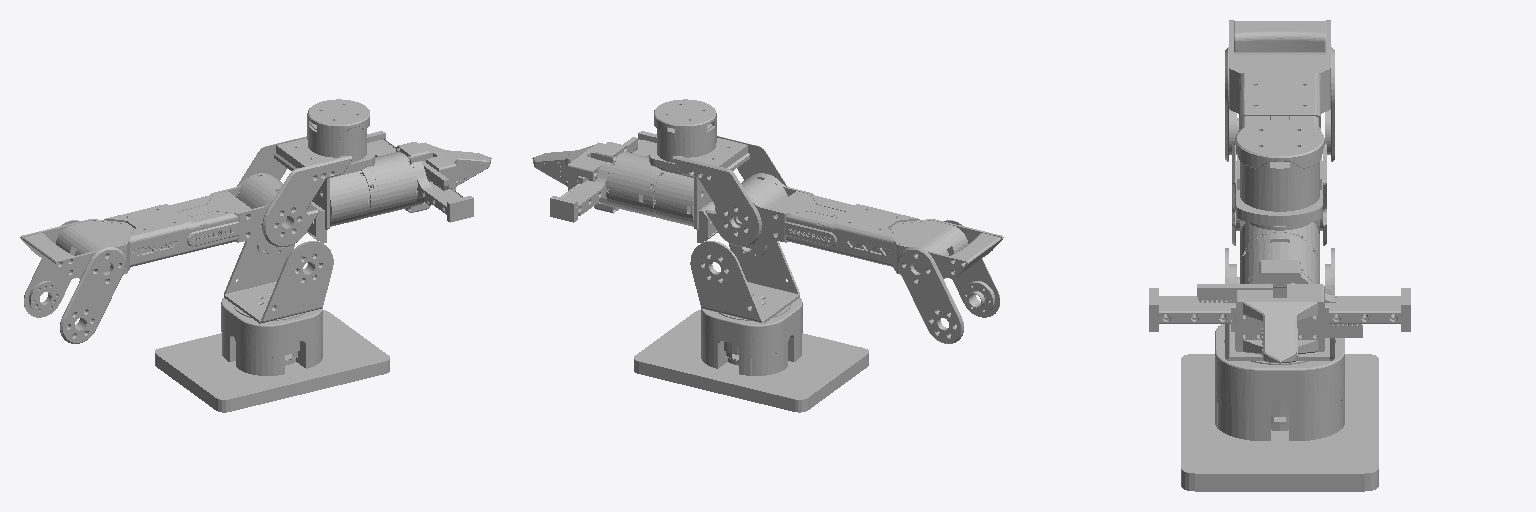
robot.urdf — reBot-DevArm_description_fixend:
<?xml version="1.0" encoding="utf-8"?>
<!-- This URDF was automatically created by SolidWorks to URDF Exporter! Originally created by Stephen Brawner (brawner@gmail.com) 
     Commit Version: 1.6.0-4-g7f85cfe  Build Version: 1.6.7995.38578
     For more information, please see http://wiki.ros.org/sw_urdf_exporter -->
<robot
  name="reBot-DevArm_description_fixend">
  <link
    name="base_link">
    <inertial>
      <origin
        xyz="-1.85734193190318E-05 -3.14893917816028E-08 0.0235694730998748"
        rpy="0 0 0" />
      <mass
        value="0.719994590495512" />
      <inertia
        ixx="0.000915098415293508"
        ixy="1.16624299234023E-08"
        ixz="-2.77627033649579E-07"
        iyy="0.00159394997606591"
        iyz="-3.83853691579024E-10"
        izz="0.00234792471513731" />
    </inertial>
    <visual>
      <origin
        xyz="0 0 0"
        rpy="0 0 0" />
      <geometry>
        <mesh
          filename="package://reBot-DevArm_description_fixend/meshes/base_link.STL" />
      </geometry>
      <material
        name="">
        <color
          rgba="0.752941176470588 0.752941176470588 0.752941176470588 1" />
      </material>
    </visual>
    <collision>
      <origin
        xyz="0 0 0"
        rpy="0 0 0" />
      <geometry>
        <mesh
          filename="package://reBot-DevArm_description_fixend/meshes/base_link.STL" />
      </geometry>
    </collision>
  </link>
  <link
    name="link1">
    <inertial>
      <origin
        xyz="0.00946544445312927 -0.000916580237430832 0.0265782762061412"
        rpy="0 0 0" />
      <mass
        value="0.0474137994557966" />
      <inertia
        ixx="6.36839627695188E-05"
        ixy="-1.55440663246564E-11"
        ixz="-7.08508824336641E-06"
        iyy="3.98844280553226E-05"
        iyz="-4.4556429003454E-11"
        izz="5.92016142489911E-05" />
    </inertial>
    <visual>
      <origin
        xyz="0 0 0"
        rpy="0 0 0" />
      <geometry>
        <mesh
          filename="package://reBot-DevArm_description_fixend/meshes/link1.STL" />
      </geometry>
      <material
        name="">
        <color
          rgba="0.752941176470588 0.752941176470588 0.752941176470588 1" />
      </material>
    </visual>
    <collision>
      <origin
        xyz="0 0 0"
        rpy="0 0 0" />
      <geometry>
        <mesh
          filename="package://reBot-DevArm_description_fixend/meshes/link1.STL" />
      </geometry>
    </collision>
  </link>
  <joint
    name="joint1"
    type="revolute">
    <origin
      xyz="0 0 0.0708"
      rpy="0 0 0" />
    <parent
      link="base_link" />
    <child
      link="link1" />
    <axis
      xyz="0 0 1" />
    <limit
      lower="-3.14"
      upper="3.14"
      effort="27"
      velocity="50" />
  </joint>
  <link
    name="link2">
    <inertial>
      <origin
        xyz="-0.132889542584872 -0.003258224978752 -0.0349384843366669"
        rpy="0 0 0" />
      <mass
        value="0.739226251844668" />
      <inertia
        ixx="0.000256114561344732"
        ixy="-6.74416097640004E-06"
        ixz="4.81792944649058E-10"
        iyy="0.00206193618710208"
        iyz="4.37044735910569E-07"
        izz="0.00205913873630619" />
    </inertial>
    <visual>
      <origin
        xyz="0 0 0"
        rpy="0 0 0" />
      <geometry>
        <mesh
          filename="package://reBot-DevArm_description_fixend/meshes/link2.STL" />
      </geometry>
      <material
        name="">
        <color
          rgba="0.752941176470588 0.752941176470588 0.752941176470588 1" />
      </material>
    </visual>
    <collision>
      <origin
        xyz="0 0 0"
        rpy="0 0 0" />
      <geometry>
        <mesh
          filename="package://reBot-DevArm_description_fixend/meshes/link2.STL" />
      </geometry>
    </collision>
  </link>
  <joint
    name="joint2"
    type="revolute">
    <origin
      xyz="0.02 0.035625 0.0497"
      rpy="-1.5708 0 0" />
    <parent
      link="link1" />
    <child
      link="link2" />
    <axis
      xyz="0 0 -1" />
    <limit
      lower="-3.14"
      upper="0"
      effort="27"
      velocity="50" />
  </joint>
  <link
    name="link3">
    <inertial>
      <origin
        xyz="0.123937952105152 -0.0545951132444595 -0.0352155733412803"
        rpy="0 0 0" />
      <mass
        value="0.517217816239094" />
      <inertia
        ixx="0.000154448088504725"
        ixy="1.31408569477724E-05"
        ixz="-1.08370172627092E-09"
        iyy="0.00131521837345199"
        iyz="2.77287281258215E-07"
        izz="0.00130884871979224" />
    </inertial>
    <visual>
      <origin
        xyz="0 0 0"
        rpy="0 0 0" />
      <geometry>
        <mesh
          filename="package://reBot-DevArm_description_fixend/meshes/link3.STL" />
      </geometry>
      <material
        name="">
        <color
          rgba="0.752941176470588 0.752941176470588 0.752941176470588 1" />
      </material>
    </visual>
    <collision>
      <origin
        xyz="0 0 0"
        rpy="0 0 0" />
      <geometry>
        <mesh
          filename="package://reBot-DevArm_description_fixend/meshes/link3.STL" />
      </geometry>
    </collision>
  </link>
  <joint
    name="joint3"
    type="revolute">
    <origin
      xyz="-0.264 0 0"
      rpy="0 0 0" />
    <parent
      link="link2" />
    <child
      link="link3" />
    <axis
      xyz="0 0 1" />
    <limit
      lower="-3.14"
      upper="0"
      effort="27"
      velocity="50" />
  </joint>
  <link
    name="link4">
    <inertial>
      <origin
        xyz="0.0605173509890757 -0.0515591812721402 -0.0304480106784497"
        rpy="0 0 0" />
      <mass
        value="0.192697131774934" />
      <inertia
        ixx="8.02180695386143E-05"
        ixy="1.80653906847015E-05"
        ixz="4.16372809232252E-08"
        iyy="0.00011283880277066"
        iyz="-1.27766109264829E-07"
        izz="0.000110011824792294" />
    </inertial>
    <visual>
      <origin
        xyz="0 0 0"
        rpy="0 0 0" />
      <geometry>
        <mesh
          filename="package://reBot-DevArm_description_fixend/meshes/link4.STL" />
      </geometry>
      <material
        name="">
        <color
          rgba="0.752941176470588 0.752941176470588 0.752941176470588 1" />
      </material>
    </visual>
    <collision>
      <origin
        xyz="0 0 0"
        rpy="0 0 0" />
      <geometry>
        <mesh
          filename="package://reBot-DevArm_description_fixend/meshes/link4.STL" />
      </geometry>
    </collision>
  </link>
  <joint
    name="joint4"
    type="revolute">
    <origin
      xyz="0.2426 -0.054 -0.005625"
      rpy="0 0 0" />
    <parent
      link="link3" />
    <child
      link="link4" />
    <axis
      xyz="0 0 1" />
    <limit
      lower="-1.87"
      upper="1.57"
      effort="7"
      velocity="200" />
  </joint>
  <link
    name="link5">
    <inertial>
      <origin
        xyz="-0.0050794127558127 0.00010101378072503 0.0368401332519827"
        rpy="0 0 0" />
      <mass
        value="0.132385396678886" />
      <inertia
        ixx="5.35384612243393E-05"
        ixy="2.77627187996669E-07"
        ixz="3.09969892642944E-06"
        iyy="4.65021943386178E-05"
        iyz="1.16620238873388E-08"
        izz="4.49715503183576E-05" />
    </inertial>
    <visual>
      <origin
        xyz="0 0 0"
        rpy="0 0 0" />
      <geometry>
        <mesh
          filename="package://reBot-DevArm_description_fixend/meshes/link5.STL" />
      </geometry>
      <material
        name="">
        <color
          rgba="0.752941176470588 0.752941176470588 0.752941176470588 1" />
      </material>
    </visual>
    <collision>
      <origin
        xyz="0 0 0"
        rpy="0 0 0" />
      <geometry>
        <mesh
          filename="package://reBot-DevArm_description_fixend/meshes/link5.STL" />
      </geometry>
    </collision>
  </link>
  <joint
    name="joint5"
    type="revolute">
    <origin
      xyz="0.078308 -0.0355 -0.03"
      rpy="-1.5708 0 0" />
    <parent
      link="link4" />
    <child
      link="link5" />
    <axis
      xyz="0 0 1" />
    <limit
      lower="-1.57"
      upper="1.57"
      effort="7"
      velocity="200" />
  </joint>
  <link
    name="link6">
    <inertial>
      <origin
        xyz="-3.8781691230616E-07 0.000113777214552087 0.0230647909060226"
        rpy="0 0 0" />
      <mass
        value="0.11789729559246" />
      <inertia
        ixx="3.88080010698203E-05"
        ixy="-1.17785351596058E-08"
        ixz="-3.87297996334965E-10"
        iyy="3.85559589025659E-05"
        iyz="2.77632235790657E-07"
        izz="4.97947305166078E-05" />
    </inertial>
    <visual>
      <origin
        xyz="0 0 0"
        rpy="0 0 0" />
      <geometry>
        <mesh
          filename="package://reBot-DevArm_description_fixend/meshes/link6.STL" />
      </geometry>
      <material
        name="">
        <color
          rgba="0.752941176470588 0.752941176470588 0.752941176470588 1" />
      </material>
    </visual>
    <collision>
      <origin
        xyz="0 0 0"
        rpy="0 0 0" />
      <geometry>
        <mesh
          filename="package://reBot-DevArm_description_fixend/meshes/link6.STL" />
      </geometry>
    </collision>
  </link>
  <joint
    name="joint6"
    type="revolute">
    <origin
      xyz="0.027192 0 0.038"
      rpy="0 1.5708 0" />
    <parent
      link="link5" />
    <child
      link="link6" />
    <axis
      xyz="0 0 1" />
    <limit
      lower="-6.28"
      upper="6.28"
      effort="7"
      velocity="200" />
  </joint>
  <link
    name="end_link">
    <inertial>
      <origin
        xyz="-0.0725515914083579 -2.48849641689627E-05 8.93997475285291E-05"
        rpy="0 0 0" />
      <mass
        value="0.144462872984956" />
      <inertia
        ixx="0.000184957886333639"
        ixy="2.96738638766954E-12"
        ixz="2.85406142523417E-09"
        iyy="3.17608917694512E-05"
        iyz="2.09841553499463E-08"
        izz="0.000178869005286531" />
    </inertial>
    <visual>
      <origin
        xyz="0 0 0"
        rpy="0 0 0" />
      <geometry>
        <mesh
          filename="package://reBot-DevArm_description_fixend/meshes/end_link.STL" />
      </geometry>
      <material
        name="">
        <color
          rgba="0.752941176470588 0.752941176470588 0.752941176470588 1" />
      </material>
    </visual>
    <collision>
      <origin
        xyz="0 0 0"
        rpy="0 0 0" />
      <geometry>
        <mesh
          filename="package://reBot-DevArm_description_fixend/meshes/end_link.STL" />
      </geometry>
    </collision>
  </link>
  <joint
    name="end_joint"
    type="fixed">
    <origin
      xyz="-0.00018697 -5.9452E-05 0.14921"
      rpy="0 -1.5708 3.1415" />
    <parent
      link="link6" />
    <child
      link="end_link" />
    <axis
      xyz="0 0 0" />
  </joint>
</robot>

--- Render facts (derived) ---
3 views of the same robot in one strip: view 1: azimuth 30°, elevation 25°; view 2: azimuth 150°, elevation 25°; view 3: azimuth 270°, elevation 25° (orthographic).
Robot: reBot-DevArm_description_fixend — 8 links, 7 joints (6 revolute, 1 fixed); root link base_link; default pose: all joints at 0.
Links seen in each view (by area): view 1: link3, base_link, link4, link1, end_link, link5, link6; view 2: link3, base_link, link4, link1, end_link, link5, link6; view 3: base_link, end_link, link3, link4, link6, link1, link5.
Link boxes in pixels (x1,y1,x2,y2): link3: [20, 173, 309, 343]; base_link: [155, 298, 389, 412]; link4: [237, 99, 374, 246]; link1: [224, 240, 333, 323]; end_link: [367, 131, 491, 222]; link5: [306, 168, 370, 243]; link6: [361, 152, 417, 217]; link3: [715, 173, 1003, 343]; base_link: [634, 298, 868, 412]; link4: [649, 99, 787, 246]; link1: [690, 240, 799, 323]; end_link: [532, 131, 656, 222]; link5: [654, 167, 717, 242]; link6: [606, 152, 662, 217]; base_link: [1181, 324, 1378, 491]; end_link: [1149, 260, 1410, 363]; link3: [1225, 20, 1334, 233]; link4: [1232, 120, 1326, 245]; link6: [1240, 232, 1319, 283]; link1: [1225, 248, 1334, 360]; link5: [1240, 221, 1319, 261].
Bounding box of the posed robot: 0.524 × 0.1841 × 0.264 m (x, y, z).
Meshes: 8 distinct files referenced, 7 mesh visuals loaded (7 binary STL); not drawn: 1 (reference not matched to a file when rendering).
